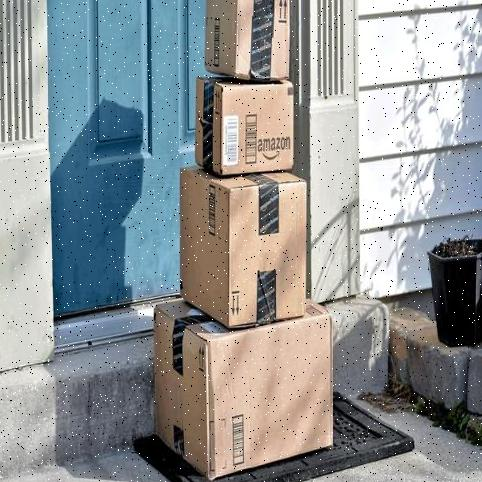Amazon: (153, 297, 333, 462), (182, 166, 308, 321), (199, 77, 292, 169), (203, 0, 290, 79)
